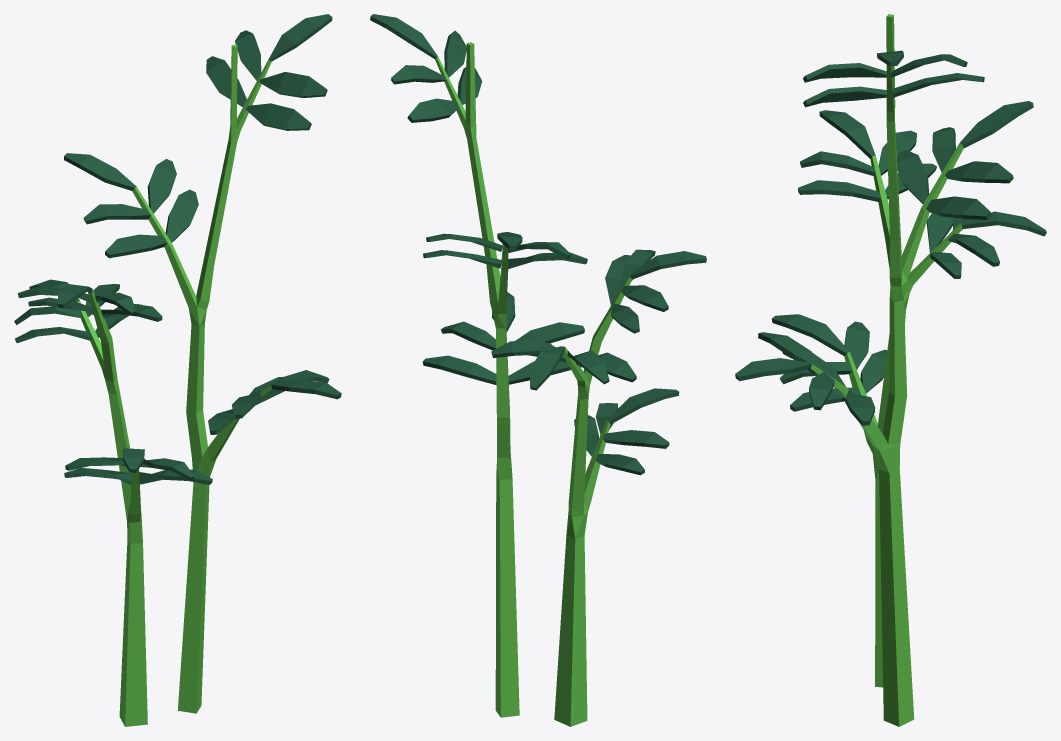
File: Pootato_Growing_L.fbx
The picture shows the model from 3 angles, left to right: view 1: azimuth 30°, elevation 25°; view 2: azimuth 150°, elevation 25°; view 3: azimuth 270°, elevation 25°; orthographic projection. The views are drawn at different scales.
Visible parts, largest first — view 1: Pootato_Growing_L; view 2: Pootato_Growing_L; view 3: Pootato_Growing_L.
Boxes of the visible parts, x1,y1,x2,y2 form: Pootato_Growing_L: (14,14,341,726); Pootato_Growing_L: (370,14,706,726); Pootato_Growing_L: (735,14,1046,726).
Bounding box in the file's own units: 27.02 × 56.12 × 21.6.
